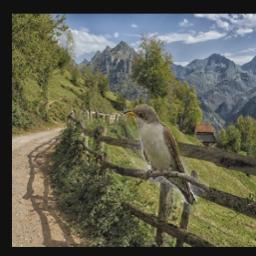Cuckoo: (124, 103, 209, 221)
